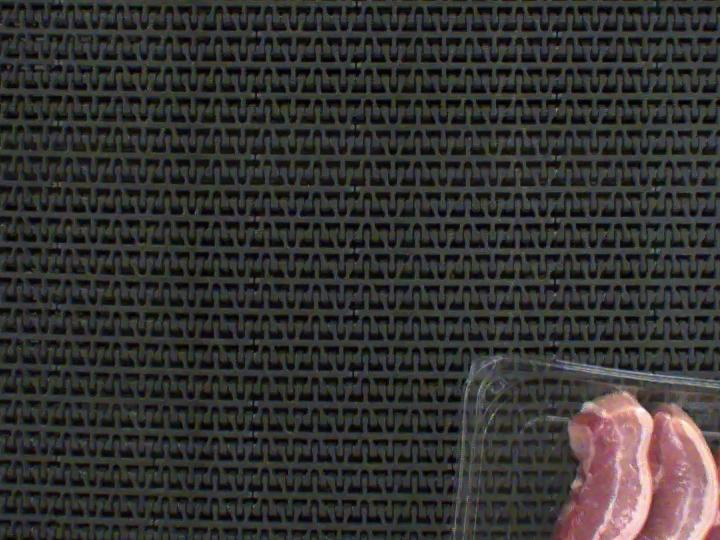packaging-error: (586, 378, 643, 399), (659, 383, 689, 417)
